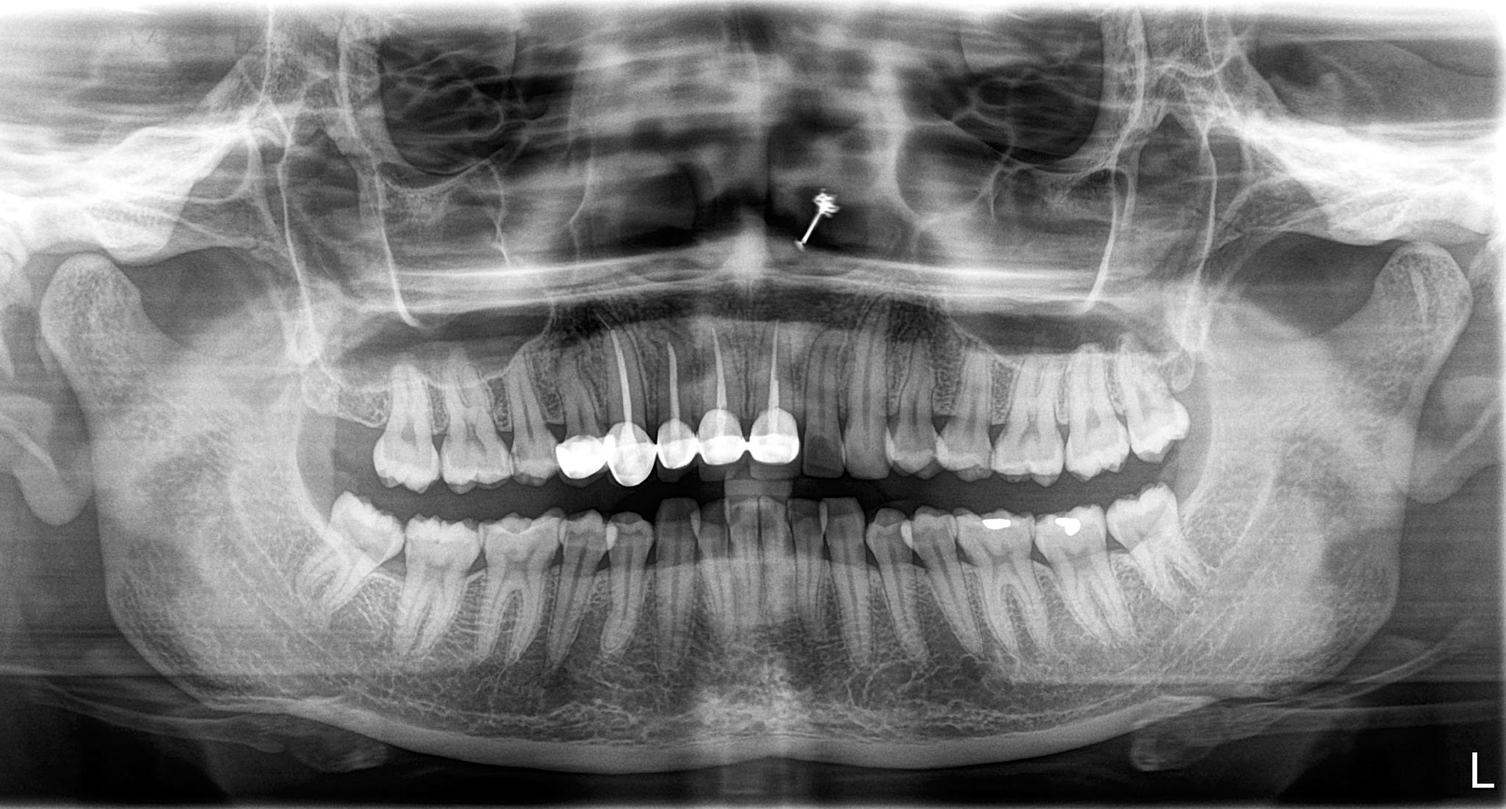Dental Caries: (805, 432, 839, 474), (1077, 411, 1105, 442)
Endodontically Treated Tooth: (754, 336, 799, 463), (563, 353, 610, 473), (610, 347, 654, 473), (702, 342, 749, 457), (665, 336, 690, 461)
Impacted Third Molar: (307, 503, 398, 630)
Missing Tooth: (305, 375, 379, 495)
